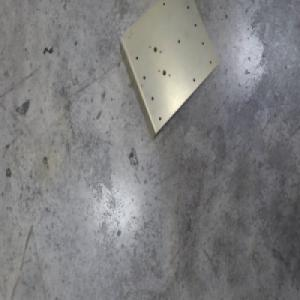MetalSheet: (117, 0, 219, 142)
